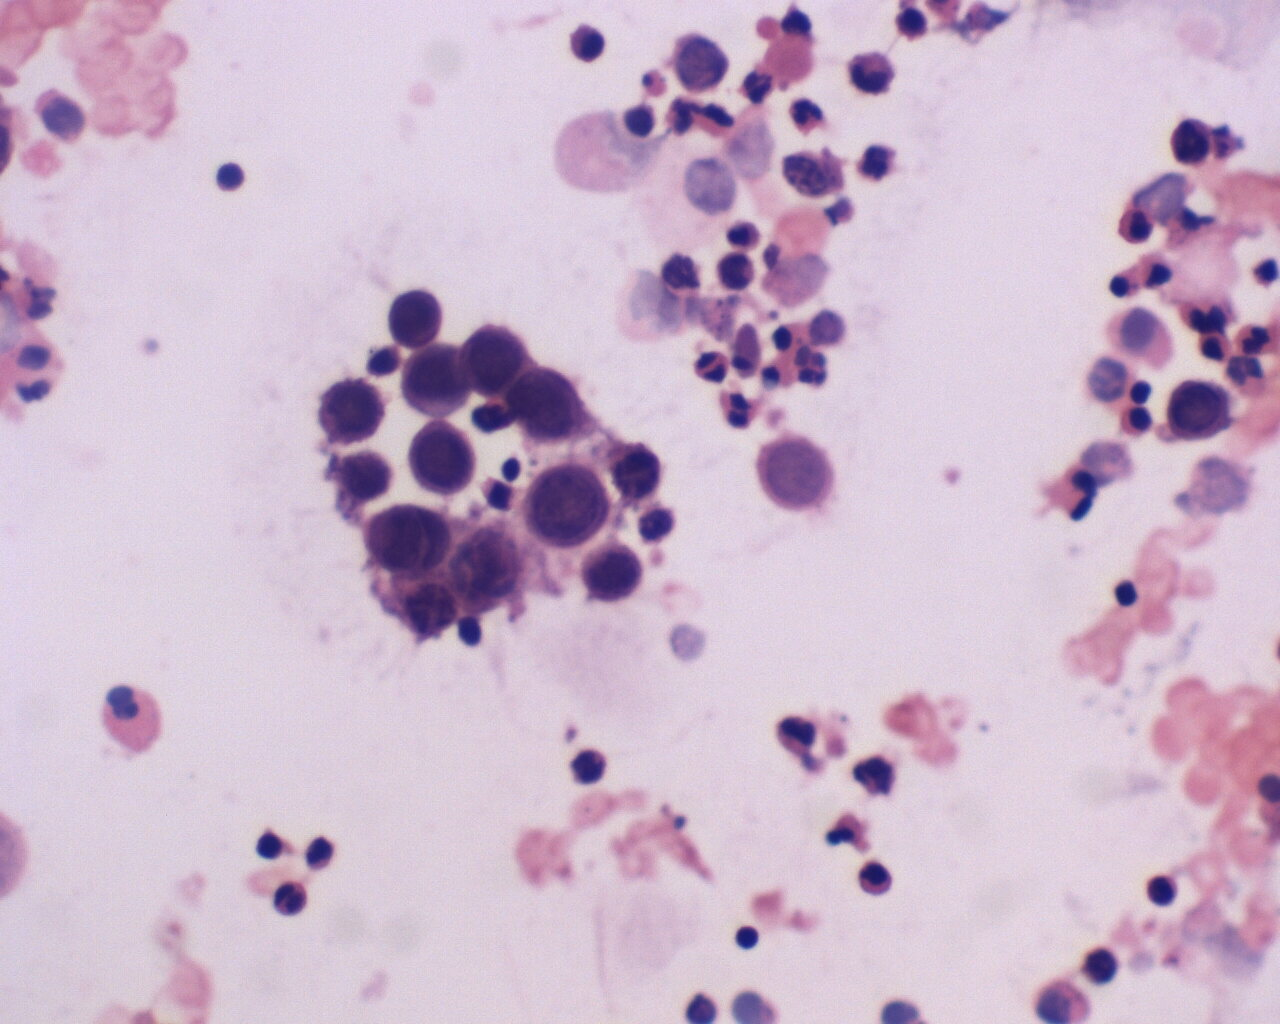ab: (525, 460, 613, 548), (364, 501, 457, 579), (506, 366, 587, 446), (401, 417, 481, 495), (400, 341, 466, 420), (1172, 376, 1240, 446), (315, 374, 378, 447), (385, 287, 450, 350)
lymph: (726, 918, 765, 956), (216, 160, 249, 195), (1114, 580, 1139, 611)
neutro: (273, 879, 318, 927), (784, 95, 830, 139), (856, 856, 898, 899), (693, 346, 728, 385)
